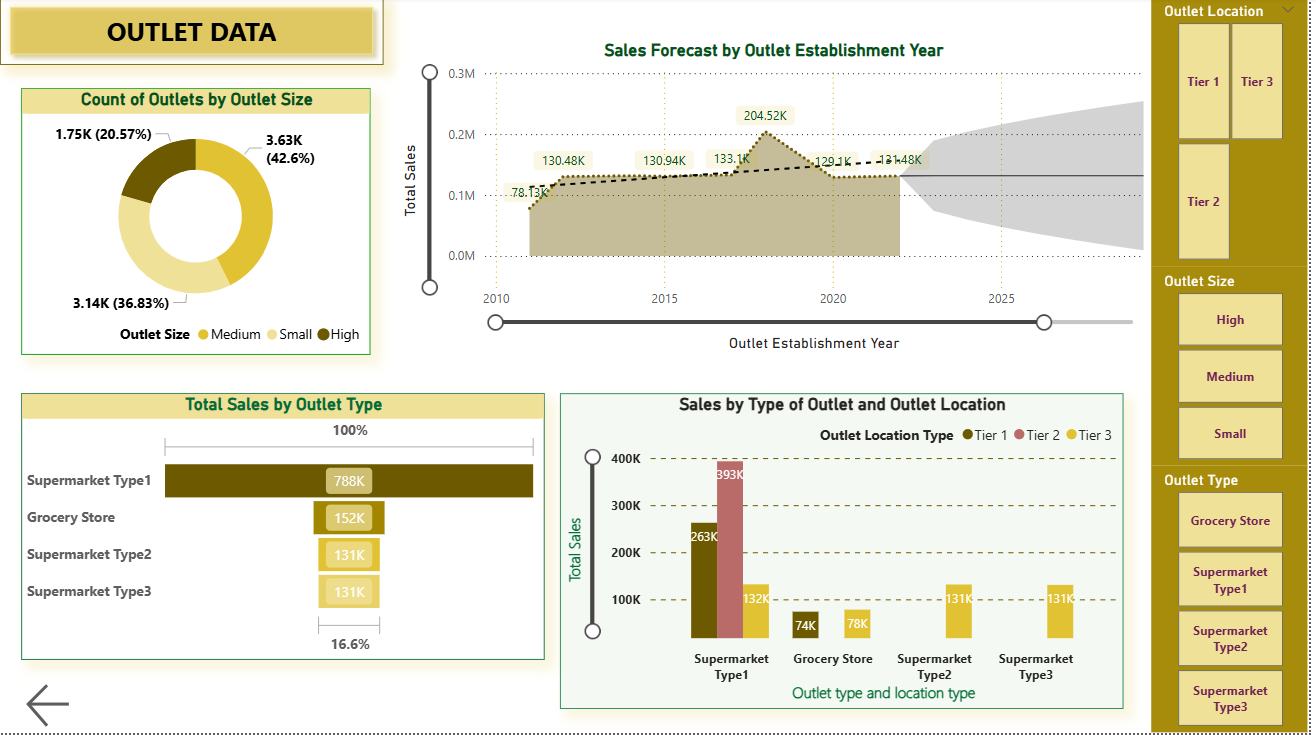

What the dashboard file says about the page in this screenshot:
{"tool":"powerbi","page":{"name":"OUTLET","canvas":[1280,720],"ordinal":1},"visuals":[{"type":"lineChart","title":"Sales Forecast by Outlet Establishment Year","fields":{"Category":["BlinkIT Grocery Data.Outlet Establishment Year"],"Y":["measure.Total Sales"]},"box":[388.1,41.8,738.7,308.8],"z":0},{"type":"donutChart","title":"Count of Outlets by Outlet Size","fields":{"Category":["BlinkIT Grocery Data.Outlet Size"],"Y":["CountNonNull(BlinkIT Grocery Data.Outlet Identifier)"]},"box":[20.2,89.5,341.9,261.1],"z":1000},{"type":"shape","box":[0,0,375.1,66.4],"z":2000},{"type":"funnel","fields":{"Category":["BlinkIT Grocery Data.Outlet Type"],"Y":["measure.Total Sales"]},"box":[20.2,388.1,512.2,261.1],"z":3000},{"type":"slicer","fields":{"Values":["BlinkIT Grocery Data.Outlet Type"]},"box":[1126.8,458.8,152.9,261.1],"z":4000},{"type":"slicer","fields":{"Values":["BlinkIT Grocery Data.Outlet Size"]},"box":[1126.8,264,152.9,194.8],"z":5000},{"type":"slicer","fields":{"Values":["BlinkIT Grocery Data.Outlet Location Type"]},"box":[1126.8,0,152.9,264],"z":6000},{"type":"clusteredColumnChart","title":"Sales by Type of Outlet and Outlet Location ","fields":{"Category":["BlinkIT Grocery Data.Outlet Type"],"Series":["BlinkIT Grocery Data.Outlet Location Type"],"Y":["measure.Total Sales"]},"box":[548.2,388.1,551.1,308.8],"z":6001},{"type":"actionButton","box":[20.2,666.6,77.9,53.4],"z":6004}]}

Visuals, with their boxes in screenshot pixels (x1, y1, x2, y2), scaled from the page's 1280x720 canvas onto the 1316x735 screenshot:
"Sales Forecast by Outlet Establishment Year" lineChart: 399/43/1158/358
"Count of Outlets by Outlet Size" donutChart: 21/91/372/358
shape: 0/0/386/68
funnel - BlinkIT Grocery Data.Outlet Type x measure.Total Sales: 21/396/547/663
slicer - BlinkIT Grocery Data.Outlet Type: 1158/468/1315/734
slicer - BlinkIT Grocery Data.Outlet Size: 1158/270/1315/468
slicer - BlinkIT Grocery Data.Outlet Location Type: 1158/0/1315/270
"Sales by Type of Outlet and Outlet Location " clusteredColumnChart: 564/396/1130/711
actionButton: 21/680/101/734
